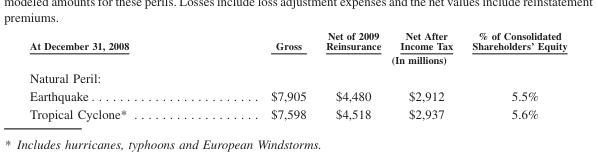table: (28, 29, 566, 120)
table column: (28, 29, 199, 120), (199, 29, 315, 120), (461, 29, 566, 120), (315, 29, 389, 120), (389, 29, 461, 120)
table column header: (28, 29, 566, 67)
table projected row header: (28, 67, 566, 86)
table row: (28, 29, 566, 52), (28, 67, 566, 86), (28, 86, 566, 104), (28, 104, 566, 120), (28, 52, 566, 67)
table spanning cell: (28, 29, 199, 67), (199, 52, 566, 67)
